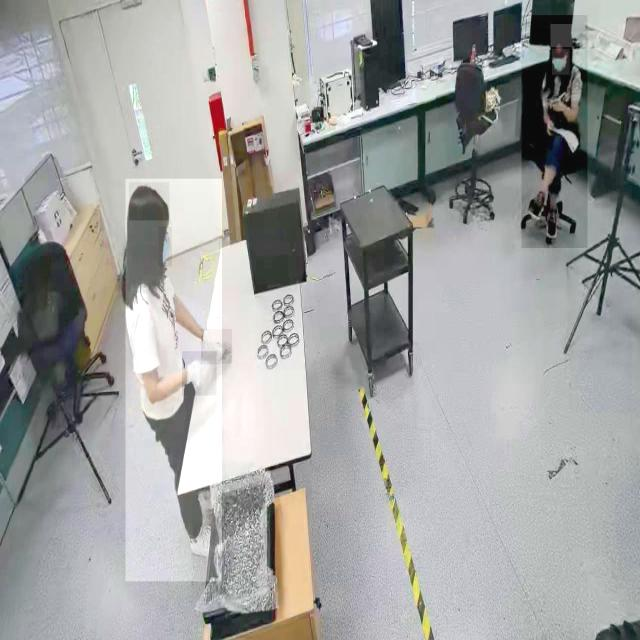face_mask: (158, 226, 172, 266), (552, 49, 570, 75)
hand_glove: (182, 351, 216, 396), (201, 329, 232, 364)
hand_noglove: (545, 116, 555, 136), (552, 95, 564, 111)
head_nohelmet: (128, 182, 170, 222), (550, 24, 572, 48)
person: (125, 179, 222, 582), (521, 15, 587, 249)
shoes: (542, 205, 561, 247), (528, 187, 548, 220)
